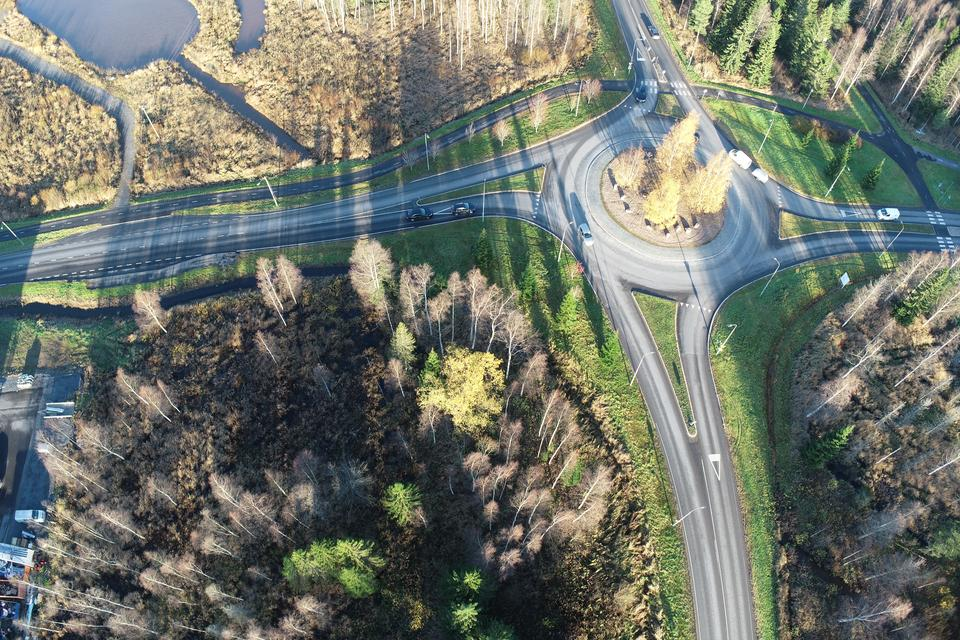intersection: (100, 175, 149, 272), (913, 196, 960, 283), (620, 67, 716, 105)
roundabout: (519, 115, 836, 346)
